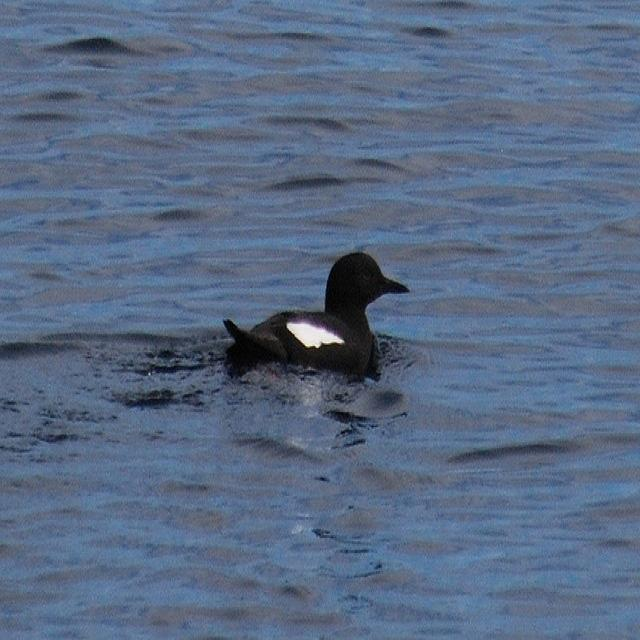bird: (221, 256, 416, 368)
